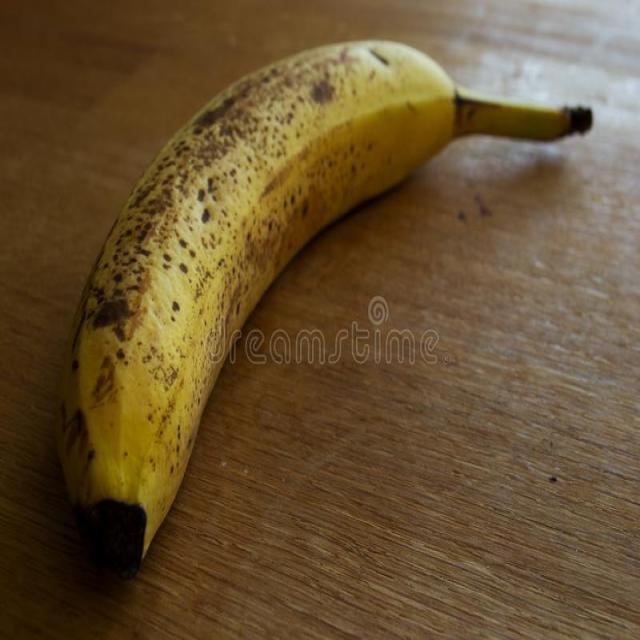banana: (56, 38, 593, 582)
